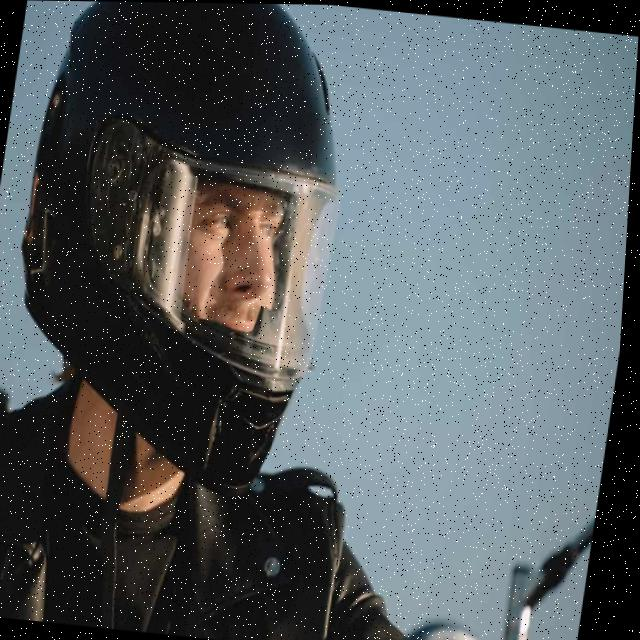helmet: (0, 0, 373, 512)
